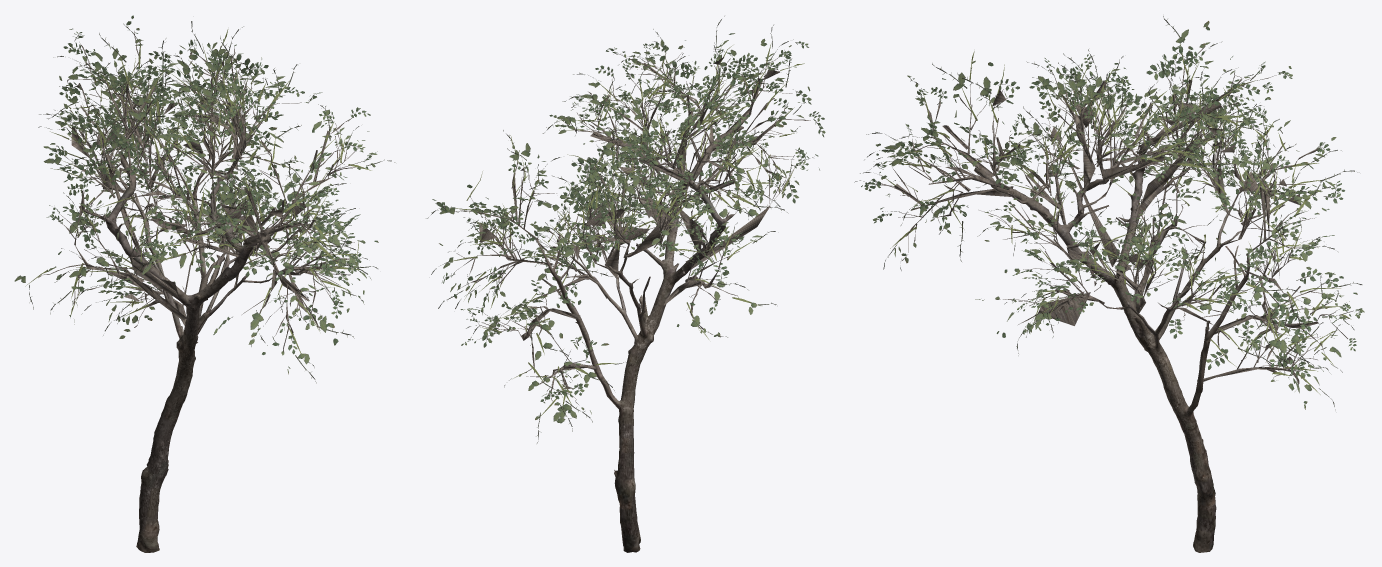
Rendered from natural-broadleaf-weathered.glb.
3 renders of one model, left to right at view 1: azimuth 30°, elevation 25°; view 2: azimuth 150°, elevation 25°; view 3: azimuth 270°, elevation 25°, orthographic. The views are drawn at different scales.
Parts seen in each view (by area): view 1: natural-broadleaf-weathered runtime mesh; view 2: natural-broadleaf-weathered runtime mesh; view 3: natural-broadleaf-weathered runtime mesh.
Part boxes in pixels (x1=…): natural-broadleaf-weathered runtime mesh: x1=14, y1=15, x2=395, y2=552; natural-broadleaf-weathered runtime mesh: x1=426, y1=16, x2=825, y2=552; natural-broadleaf-weathered runtime mesh: x1=854, y1=16, x2=1364, y2=552.
Bounding box in the file's own units: 3.12 × 4.9 × 4.58.
Materials: 3 (3 with a texture image).
